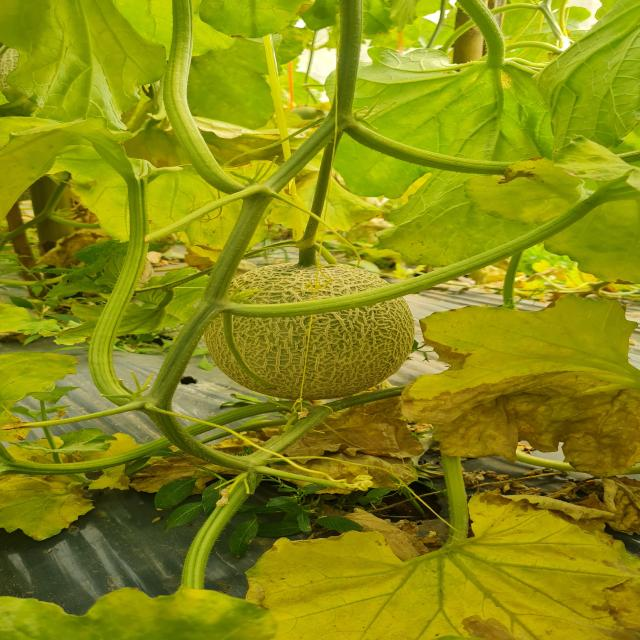melon: (204, 298, 413, 400), (231, 264, 387, 304)
